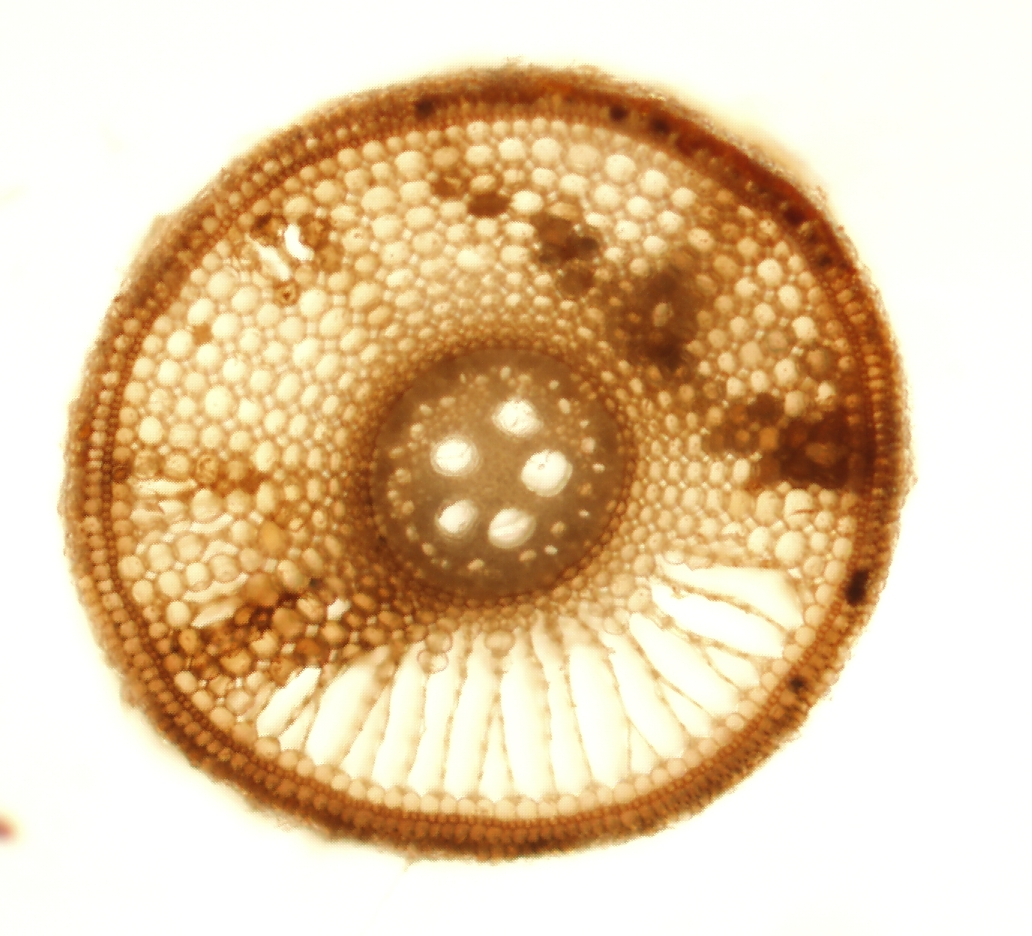lm: (520, 449, 573, 498), (491, 396, 544, 436), (487, 508, 537, 548), (429, 437, 478, 475), (438, 499, 478, 534)
